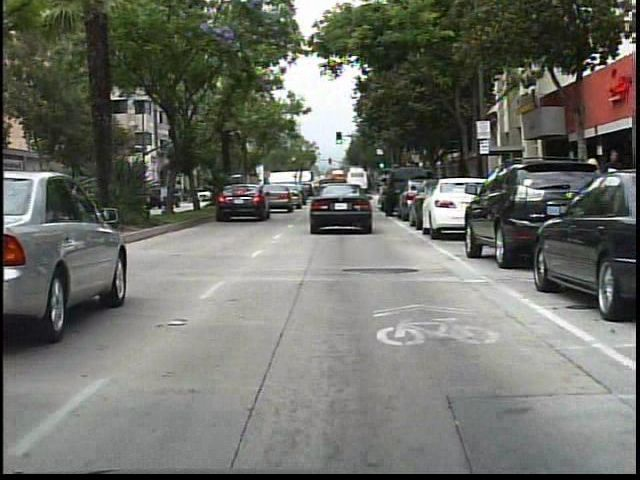person: (601, 149, 628, 227), (573, 154, 601, 223)
